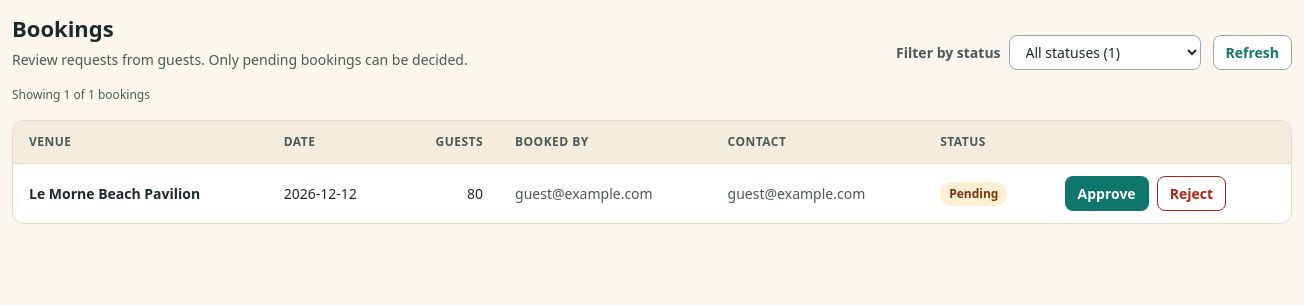
Test case: BookingsPanel: approve / reject › encodes the booking id in the request path
This screenshot has width=1304, height=305.
Expected: the table is shown, x1=13 y1=121 x2=1291 y2=223
Click the button "Approve" at (1107,194), box x1=1064 y1=176 x2=1149 y2=211
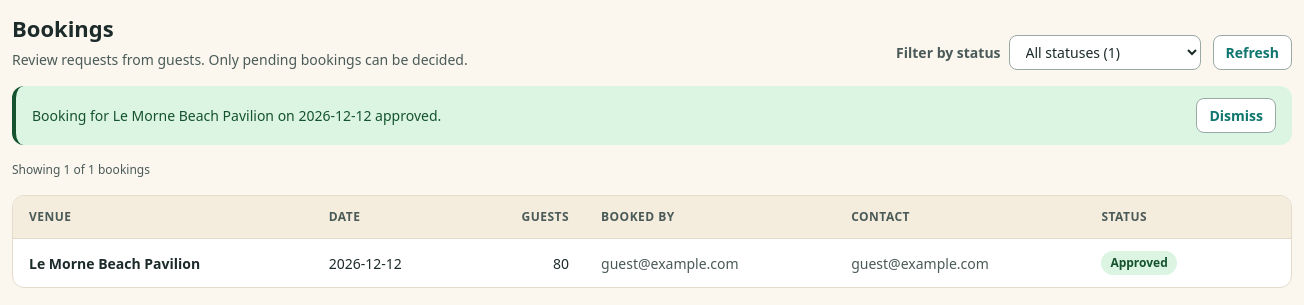
Expected: the text "approved." is shown, x1=32 y1=106 x2=441 y2=125
